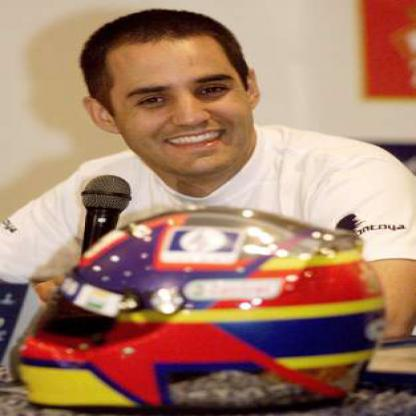face: (105, 11, 250, 181)
